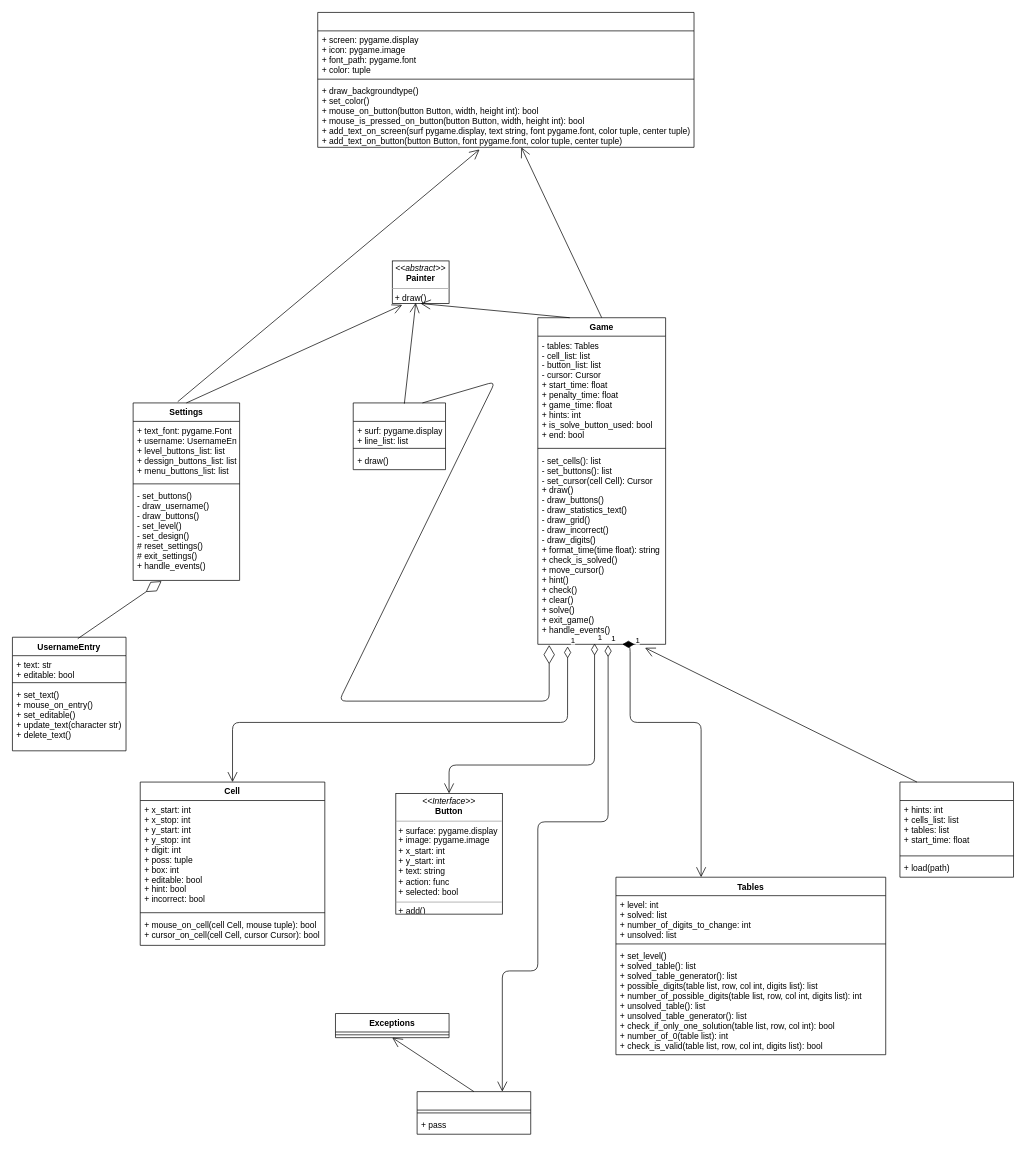
The diagram is 1026 pixels wide and 1149 high, and some of its shapes have lost their labels. The box of each missing label's shape, as (x1, y1, x2, y2) in pixels:
Cursor: (353, 402, 446, 470)
HintError: (416, 1091, 531, 1134)
LoadGame: (899, 781, 1014, 877)
Surface: (317, 12, 694, 147)
